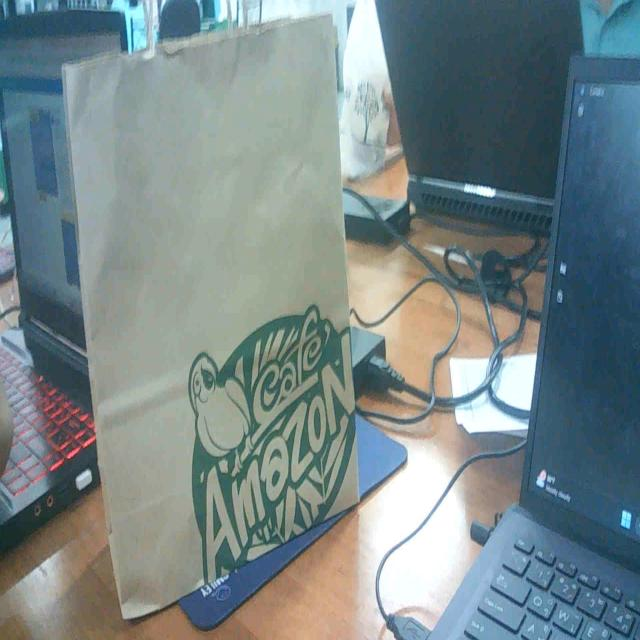bag: (47, 20, 369, 564)
